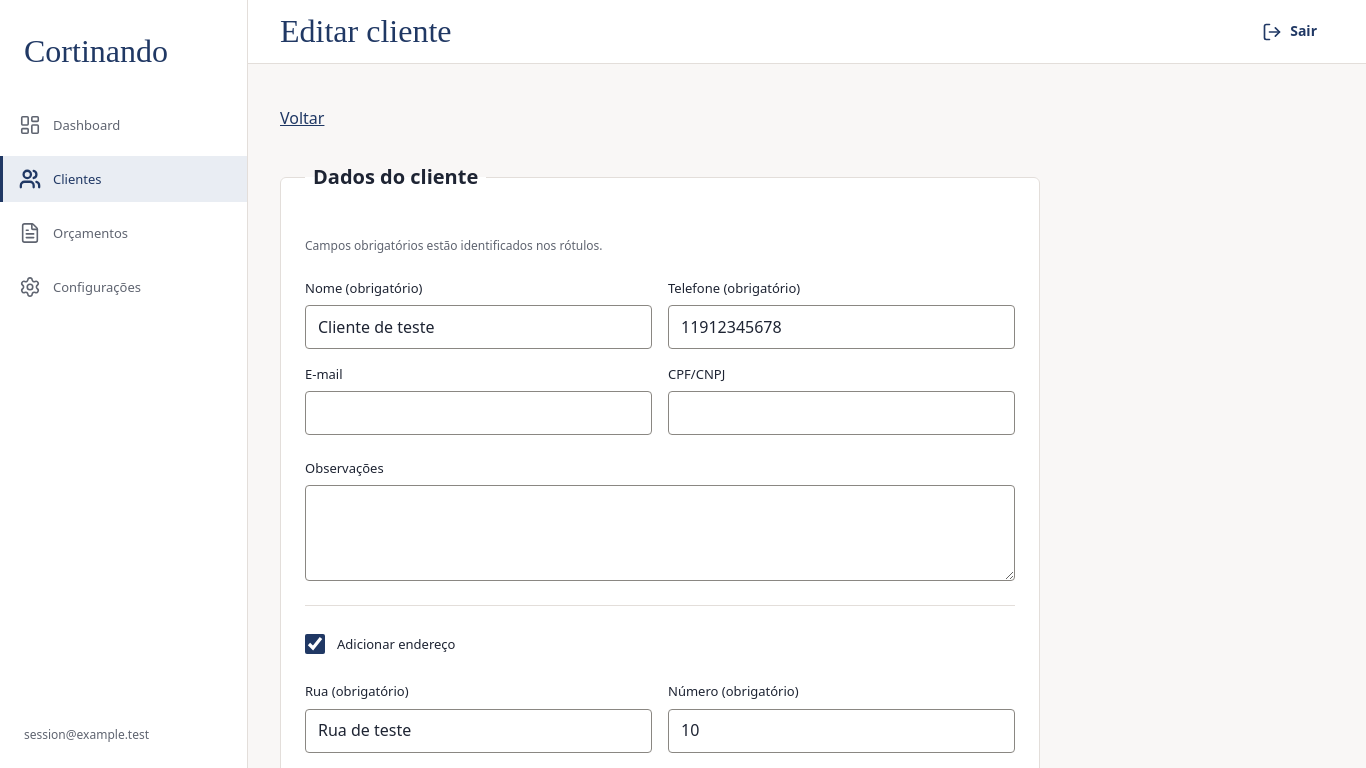
it: removing an existing address sends null without any unchanged scalar
Expected: the field labelled "Nome (obrigatório)" is shown, [305,305,652,349]
What coordinates should you click on to do the following:
click the switch
I would click on:
 (315, 644)
Its box is [305,634,325,654].
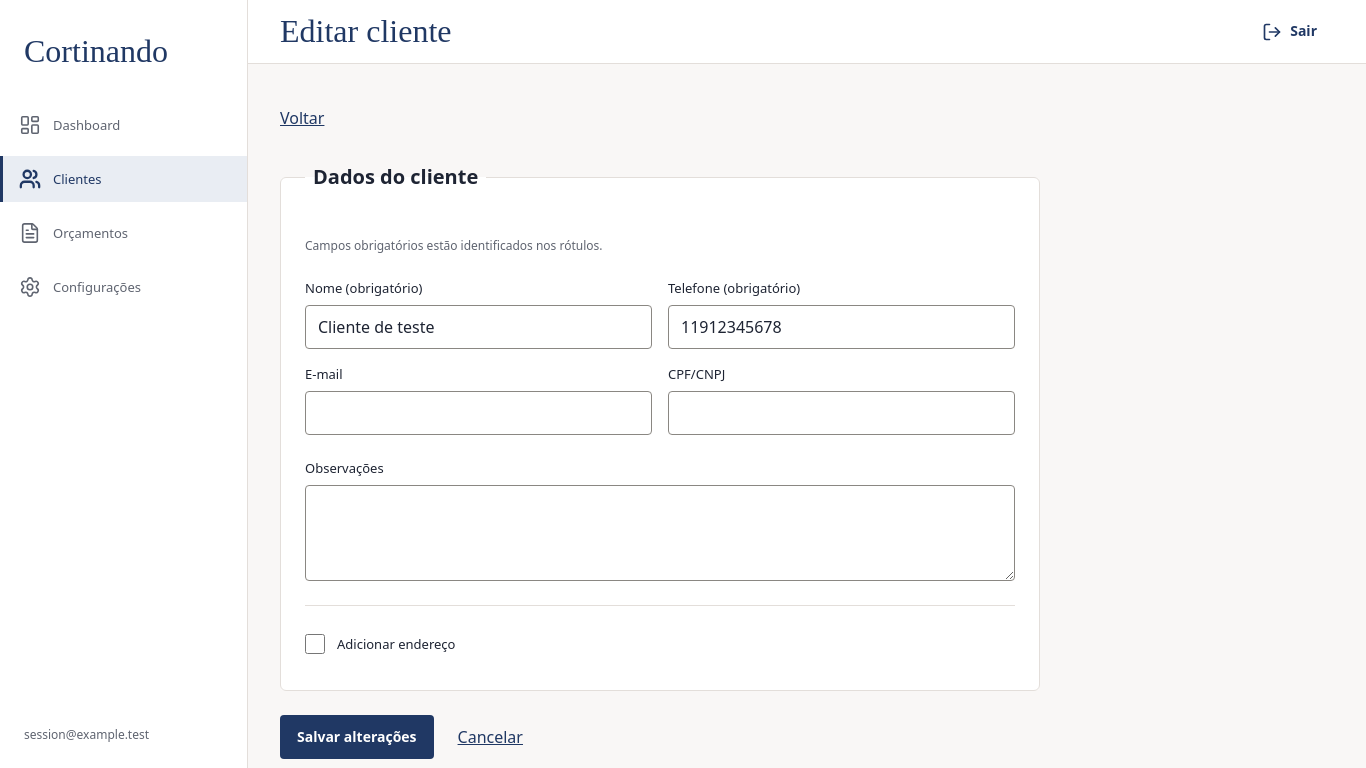
Now the label labelled "Rua (obrigatório)" is gone
What coordinates should you click on to do the following:
click the button "Salvar alterações"
I would click on:
 (357, 737)
Its box is [280,715,434,759].
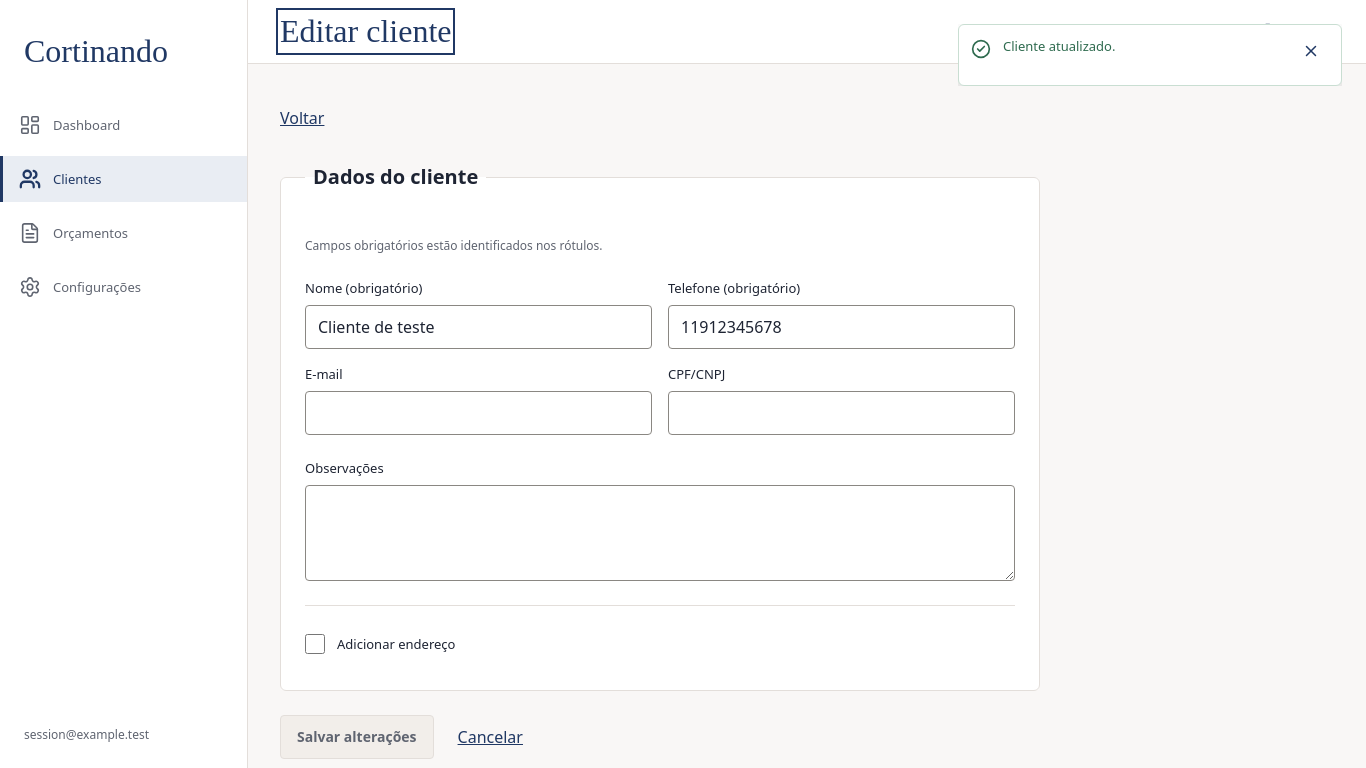
Now the text "Cliente atualizado." is shown, box [1003,37,1116,55]
